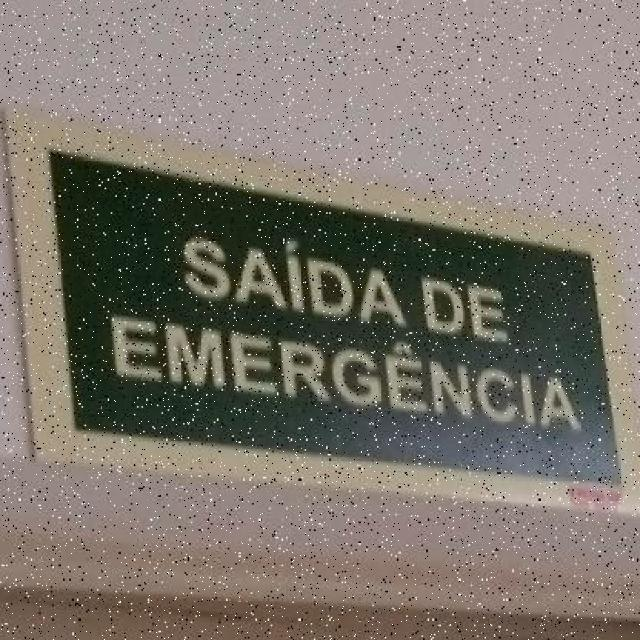emergency_exit: (44, 146, 622, 492)
